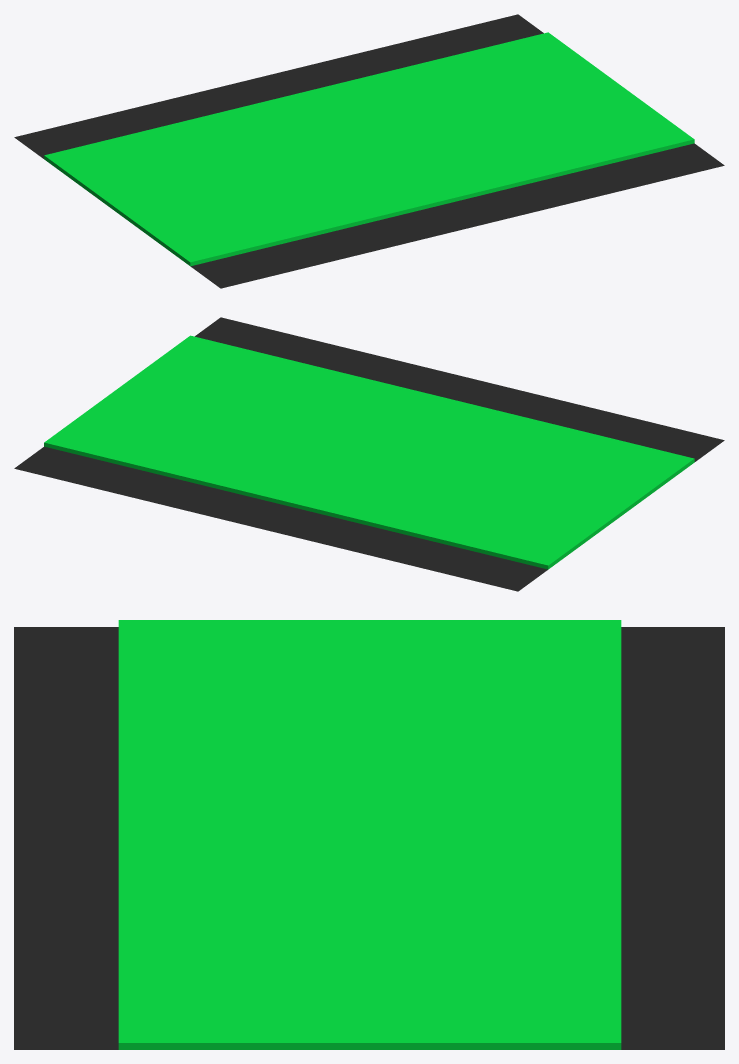
The model's file is PISO .fbx.
The picture shows the model from 3 angles, top to bottom: view 1: azimuth 30°, elevation 25°; view 2: azimuth 150°, elevation 25°; view 3: azimuth 270°, elevation 25°; orthographic projection. The views are drawn at different scales.
Parts seen in each view (by area): view 1: Plane.003; view 2: Plane.003; view 3: Plane.003.
Boxes of the visible parts, x1=… form: Plane.003: x1=14, y1=14, x2=724, y2=288; Plane.003: x1=14, y1=317, x2=724, y2=591; Plane.003: x1=14, y1=620, x2=724, y2=1049.
Bounding box in the file's own units: 18835 × 144 × 13380.
